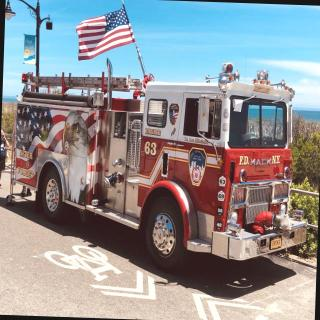Fire_truck: (5, 52, 314, 278)
